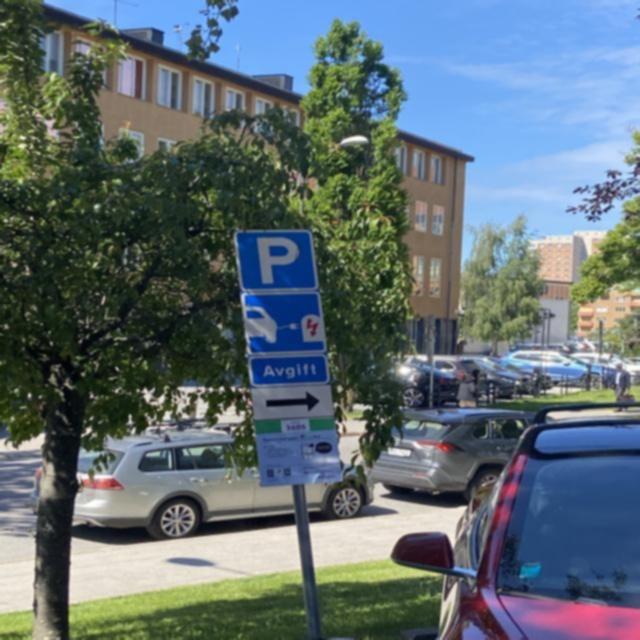P-skylt: (232, 228, 323, 292)
